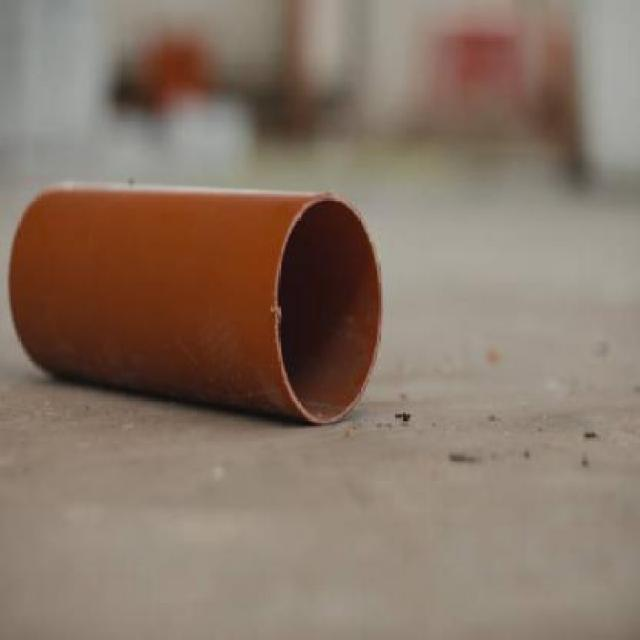pipe: (274, 196, 382, 425)
